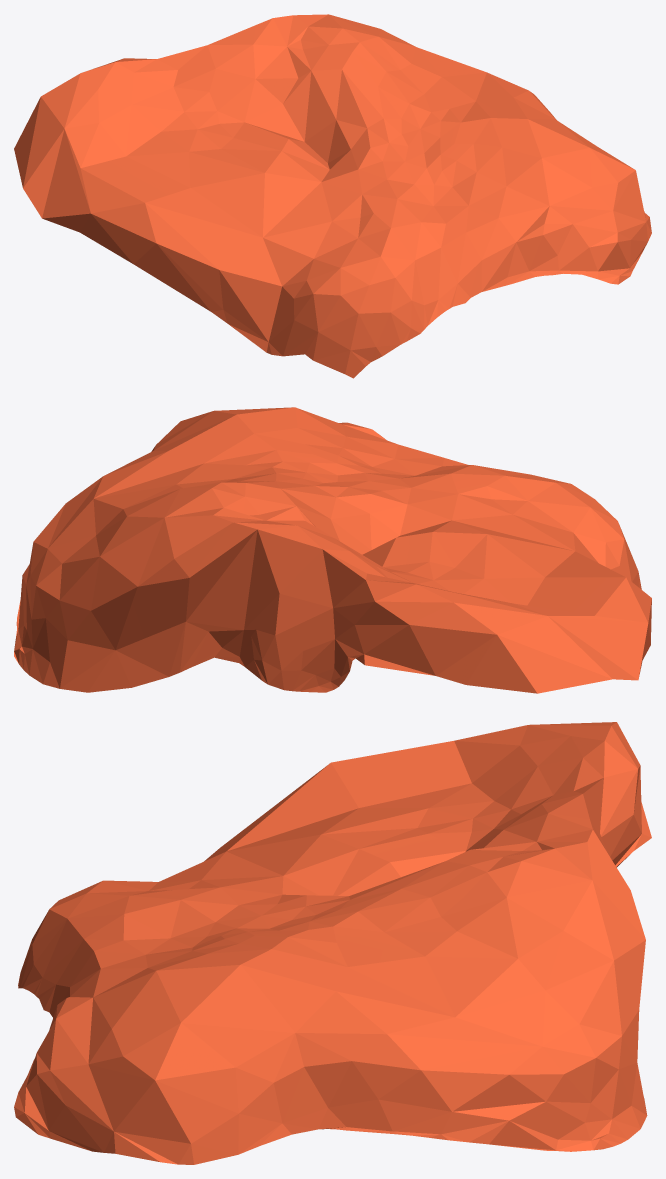
Rendered from ground_029.fbx.
3 renders of one model, top to bottom at view 1: azimuth 30°, elevation 25°; view 2: azimuth 150°, elevation 25°; view 3: azimuth 270°, elevation 25°, orthographic. The views are drawn at different scales.
Visible parts, largest first — view 1: ground.029; view 2: ground.029; view 3: ground.029.
Boxes of the visible parts, left/top/right/bottom form: ground.029: left=14, top=14, right=651, bottom=378; ground.029: left=14, top=407, right=651, bottom=693; ground.029: left=14, top=722, right=651, bottom=1164.
Bounding box in the file's own units: 2305 × 803 × 1858.
1 material, 1 textured.
